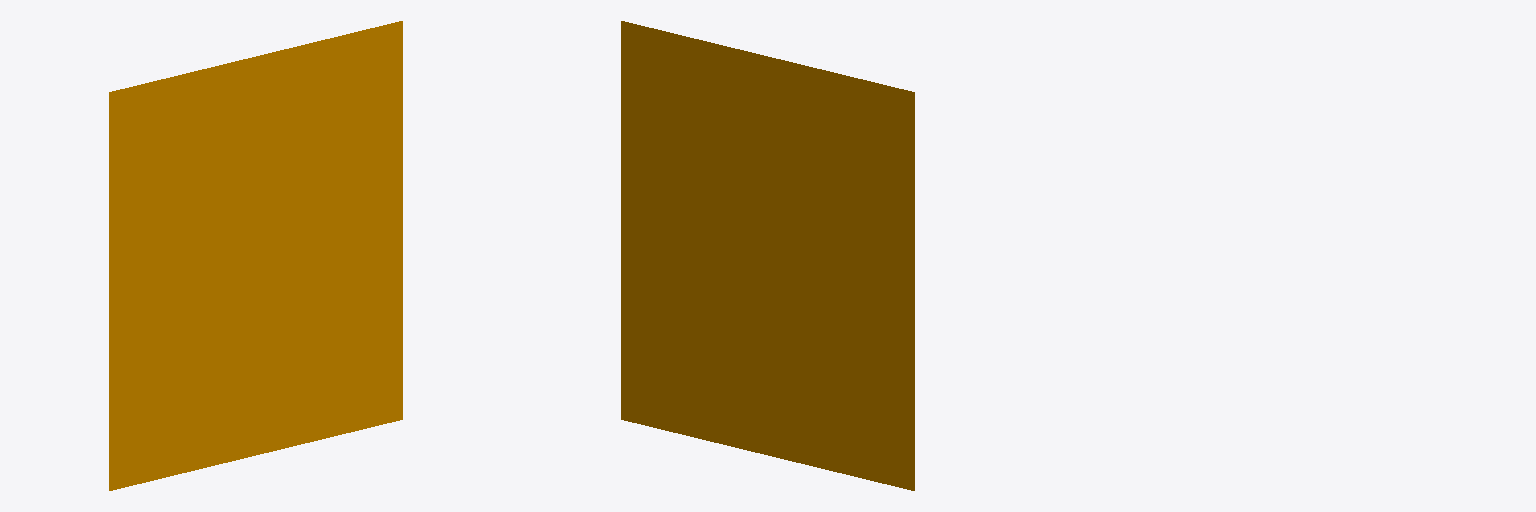
robot.urdf — tic_tac_toe_board_model:
<robot name="tic_tac_toe_board_model">
  <link name="tic_tac_toe_board">
    <inertial>
      <mass value="1.0" />
      <!-- center of mass (com) is defined w.r.t. link local coordinate system -->
      <origin xyz="0 0 0" /> 
      <inertia  ixx="1.0" ixy="0.0"  ixz="0.0"  iyy="1.0"  iyz="0.0"  izz="1.0" />
    </inertial>
      <max_vel>0.1</max_vel>
      <min_depth>0.001</min_depth>
      <mu1>1.0</mu1>
      <mu2>1.0</mu2>
    <visual>
      <!-- visual origin is defined w.r.t. link local coordinate system -->
      <origin xyz="0 0 0" rpy="0 0 0" />
      <geometry>
        <mesh filename="package://system_launch/models/mesh/board.dae" scale="1 1 1" />
      </geometry>
    </visual>
    <collision>
      <!-- collision origin is defined w.r.t. link local coordinate system -->
      <origin xyz="0 0 0" rpy="0 0 0" />
      <geometry>
        <mesh filename="package://system_launch/models/mesh/board.dae" scale="1 1 1" />
      </geometry>
    </collision>
  </link>
  <gazebo reference="tic_tac_toe_board">
    <turnGravityOff>false</turnGravityOff>
    <kp>100000000.0</kp>
    <kd>1.0</kd>
  </gazebo>
</robot>

--- Render facts (derived) ---
3 views of the same robot in one strip: view 1: azimuth 30°, elevation 25°; view 2: azimuth 150°, elevation 25°; view 3: azimuth 270°, elevation 25° (orthographic).
Robot: tic_tac_toe_board_model — 1 links, 0 joints (none); root link tic_tac_toe_board; default pose: all joints at 0.
Visible links, largest first — view 1: tic_tac_toe_board; view 2: tic_tac_toe_board; view 3: none.
Boxes of the visible links, bbox=[...] form: tic_tac_toe_board: bbox=[109, 21, 402, 490]; tic_tac_toe_board: bbox=[621, 21, 914, 490].
Size in the robot's own frame: 0.2934 by 0 by 0.3797 metres.
1 mesh visuals loaded from 1 distinct referenced files (1 Collada DAE).